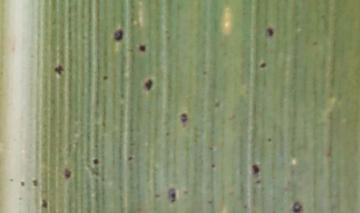tarspot: (167, 186, 176, 203), (144, 76, 153, 92), (179, 110, 189, 124), (53, 64, 65, 75), (114, 27, 123, 41), (62, 166, 72, 178), (292, 201, 302, 213), (251, 162, 260, 175), (40, 198, 49, 209), (213, 99, 222, 109), (267, 25, 274, 37), (152, 190, 161, 199), (31, 177, 39, 187), (90, 157, 100, 165), (138, 43, 146, 52), (259, 61, 267, 70), (310, 38, 318, 47), (205, 197, 214, 205), (182, 187, 190, 196), (18, 179, 26, 187), (101, 73, 109, 81), (164, 129, 172, 137), (207, 144, 215, 152), (8, 175, 15, 183), (127, 154, 134, 162), (209, 162, 217, 169), (255, 177, 261, 185), (202, 67, 208, 75), (267, 136, 272, 143)
